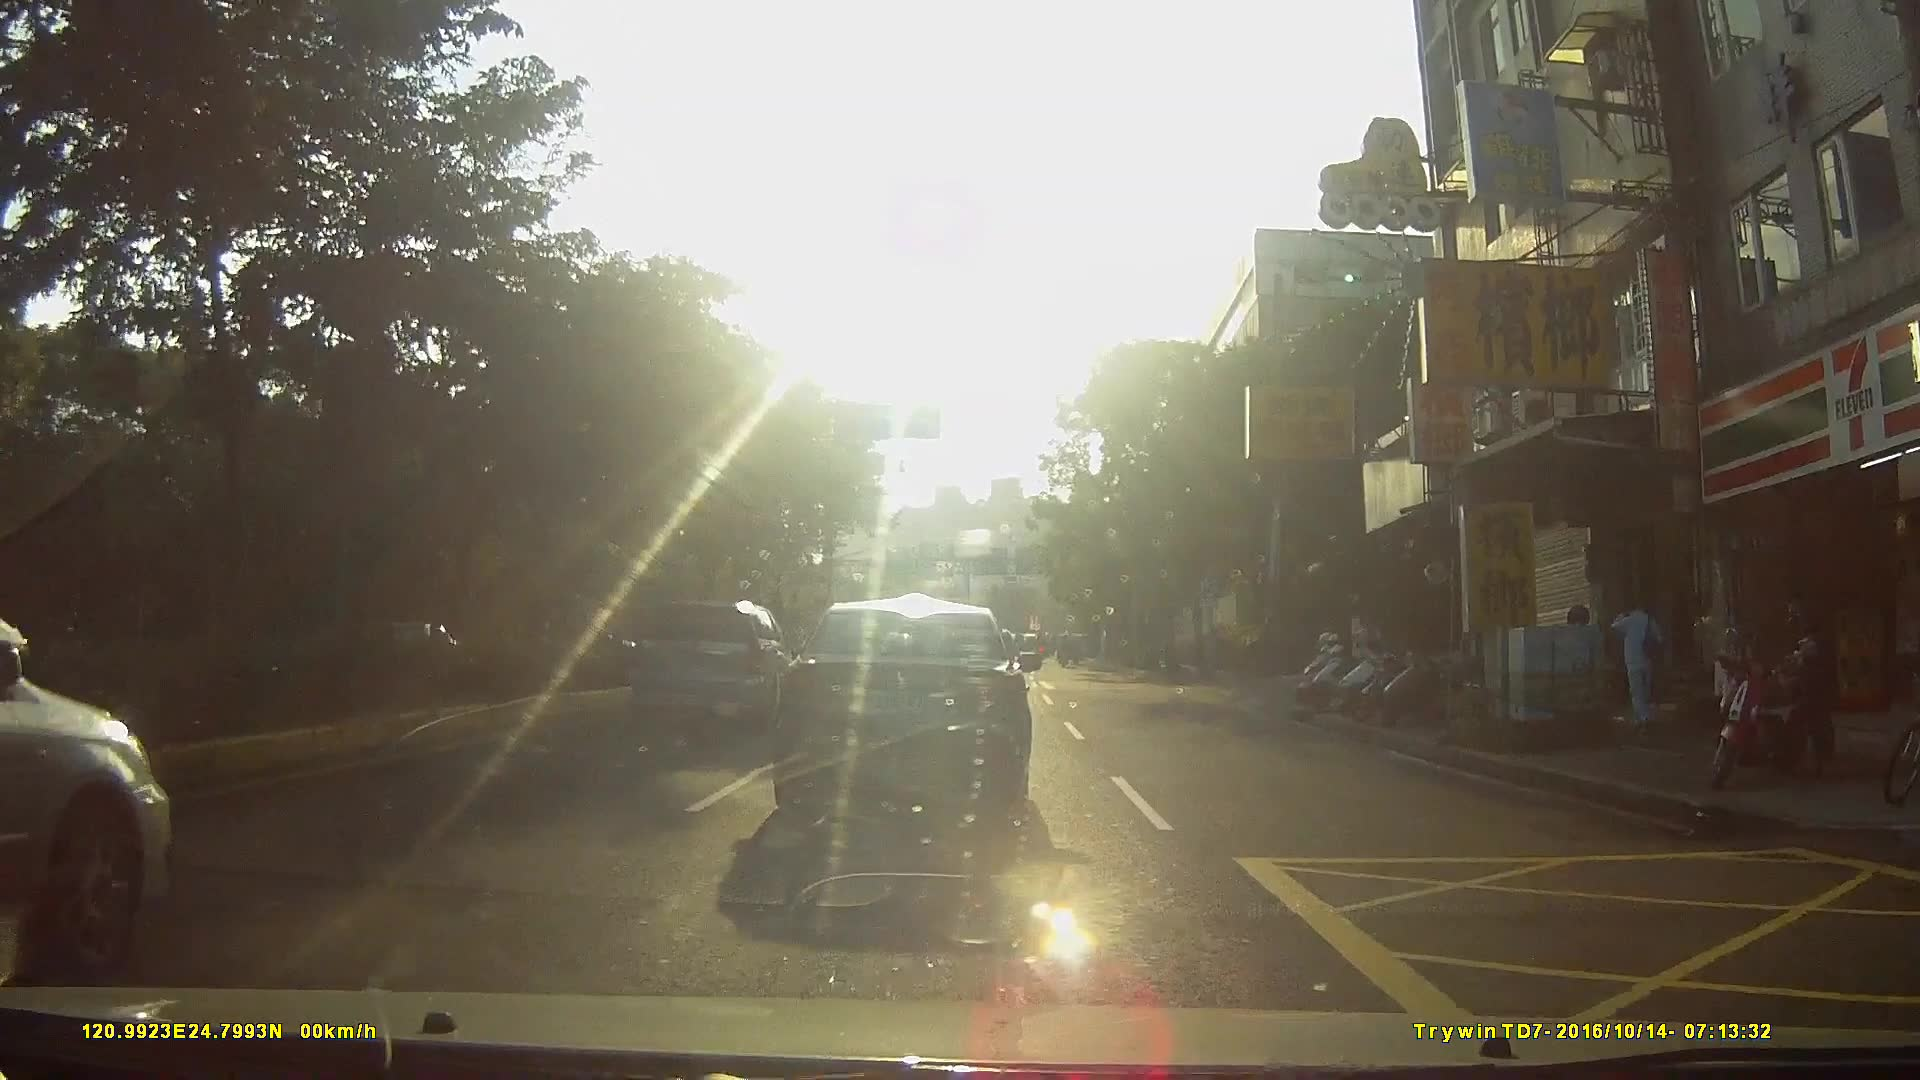pedestrian: (1787, 613, 1847, 781), (1612, 588, 1676, 732)
vehicle: (1, 603, 181, 989), (780, 589, 1061, 833), (631, 599, 801, 728)
